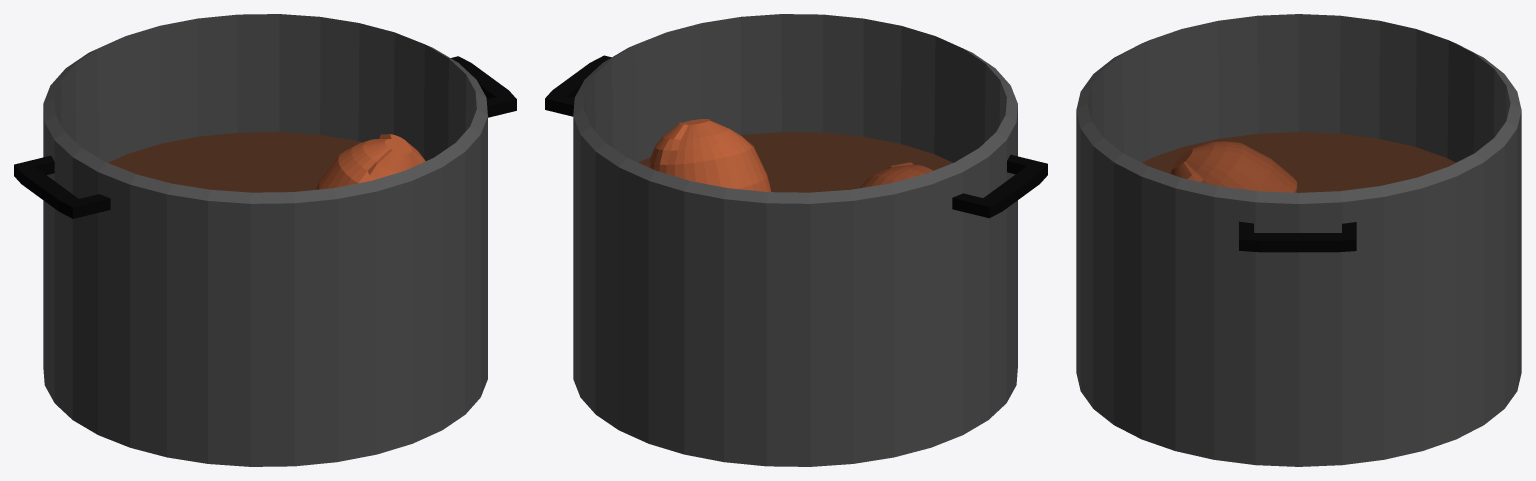
Rendered from Adobo 3rd Stage.fbx.
3 views of the same model, side by side, from view 1: azimuth 30°, elevation 25°; view 2: azimuth 150°, elevation 25°; view 3: azimuth 270°, elevation 25° (orthographic).
Visible parts, largest first — view 1: Cylinder, Liquid, Cylinder.001; view 2: Cylinder, Liquid, Cylinder.001, Cylinder.002; view 3: Cylinder, Liquid, Cylinder.002.
Boxes of the visible parts, bbox=[...] form: Cylinder: bbox=[14, 14, 516, 466]; Liquid: bbox=[108, 132, 362, 192]; Cylinder.001: bbox=[315, 134, 425, 189]; Cylinder: bbox=[545, 14, 1047, 466]; Liquid: bbox=[638, 132, 952, 192]; Cylinder.001: bbox=[648, 119, 770, 191]; Cylinder.002: bbox=[859, 162, 933, 188]; Cylinder: bbox=[1076, 14, 1521, 466]; Liquid: bbox=[1142, 132, 1455, 192]; Cylinder.002: bbox=[1170, 141, 1297, 192].
Bounding box in the file's own units: 79.81 × 47.71 × 68.44.
